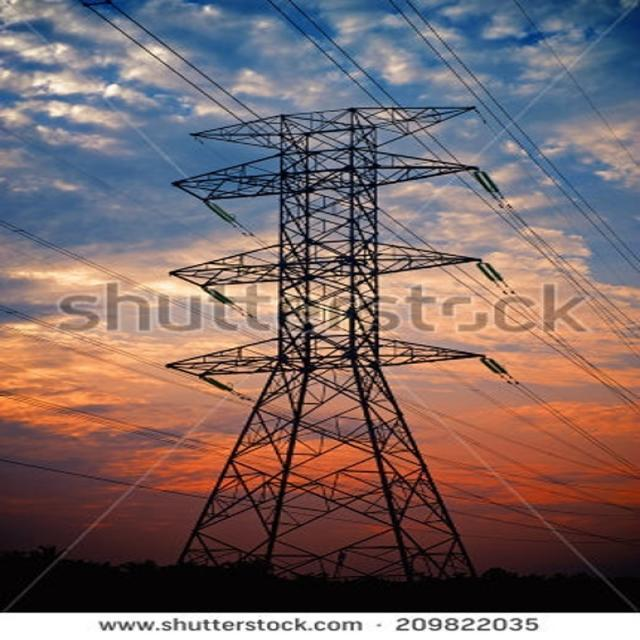non-critical vegetation: (181, 116, 523, 594)
